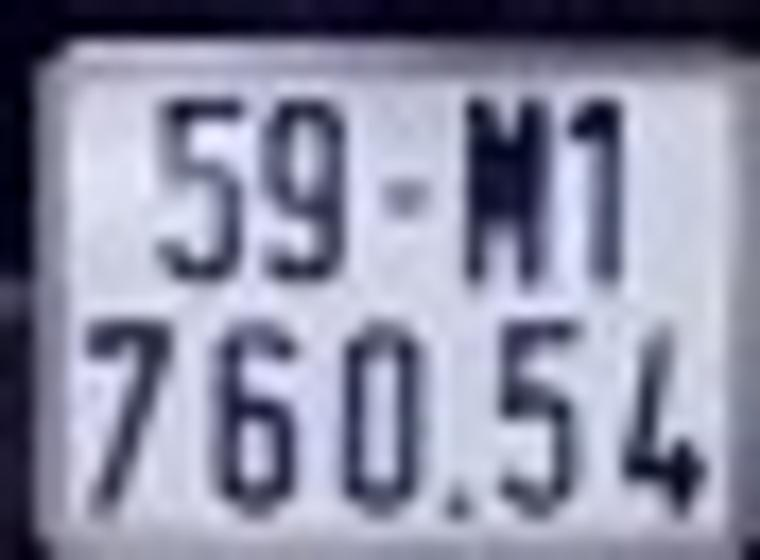-: (378, 176, 441, 212)
.: (438, 487, 479, 532)
0: (339, 326, 426, 518)
1: (572, 90, 636, 292)
4: (606, 310, 711, 514)
5: (142, 94, 248, 286), (494, 306, 585, 516)
6: (211, 315, 300, 523)
7: (80, 307, 178, 525)
9: (253, 97, 353, 288)
M: (455, 82, 561, 291)
